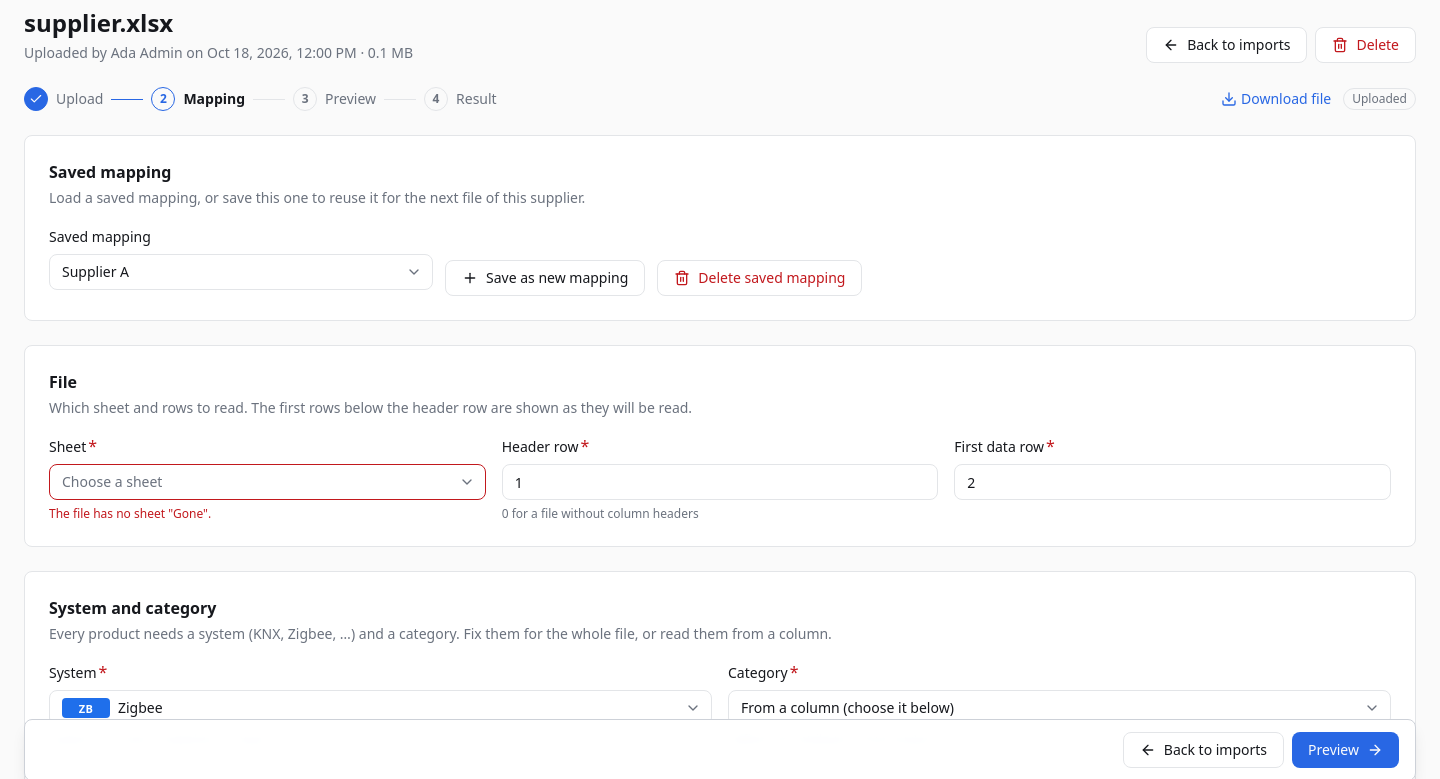
Test: MappingStep: sheets › goes back to the first sheet when "None" replaces a profile whose sheet the file lacks
Click the dropdown named "Saved mapping": (96, 272) [49,254,433,290]
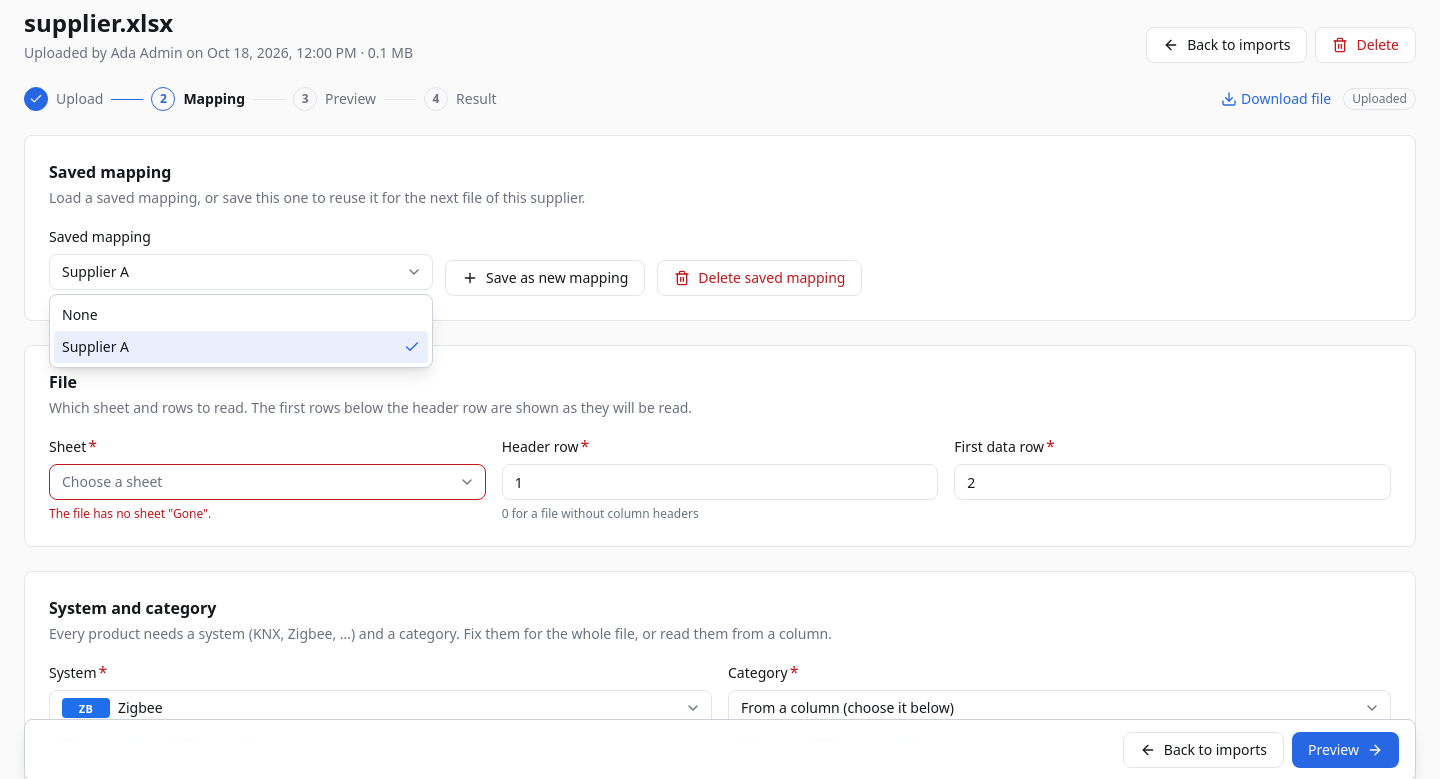
Click the option "None": (80, 314) [62,305,98,324]
(page scrolled)
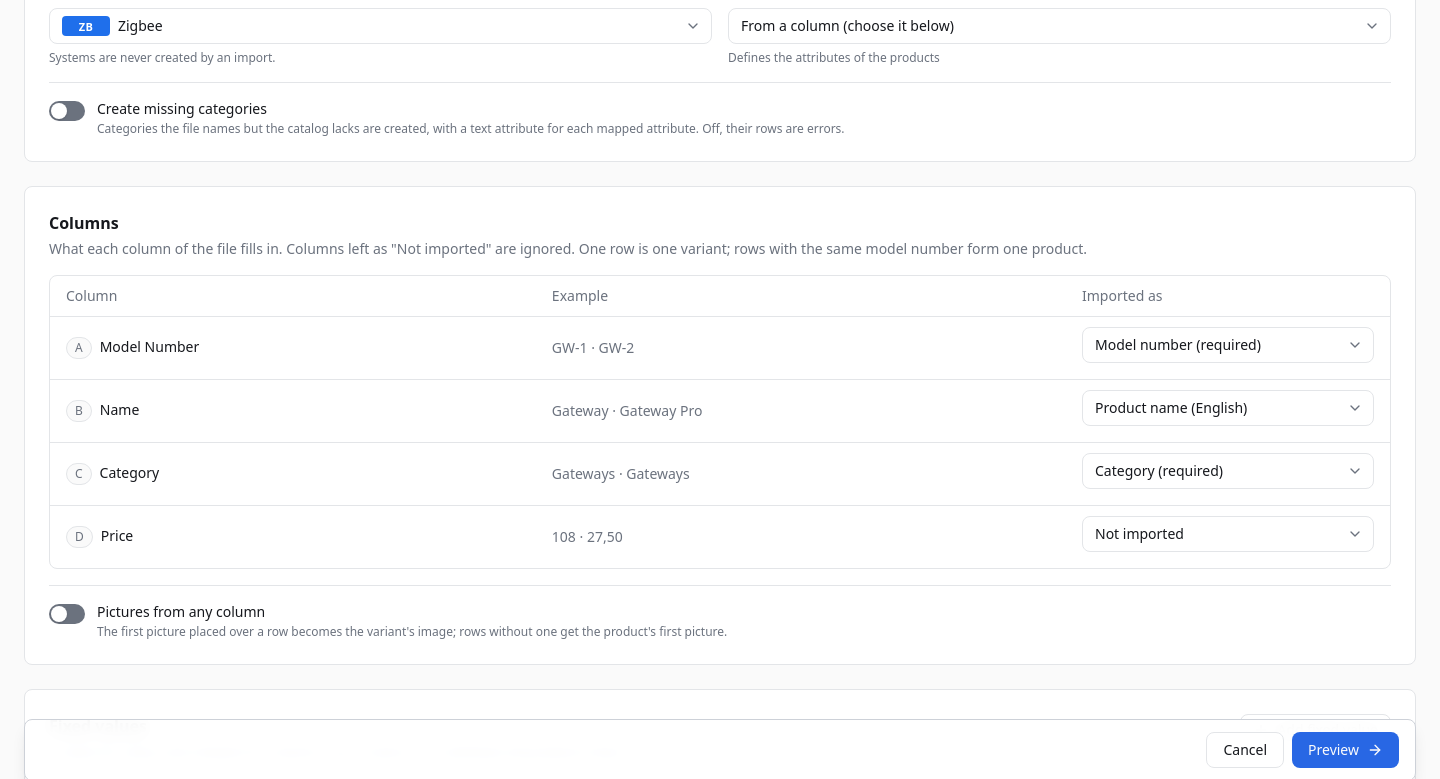
expect the dropdown named "Imported as: Model Number" reads "Model number (required)": met, box [1082,327,1374,363]
expect the text "The file has no sheet \"Gone\"." is gone: met
